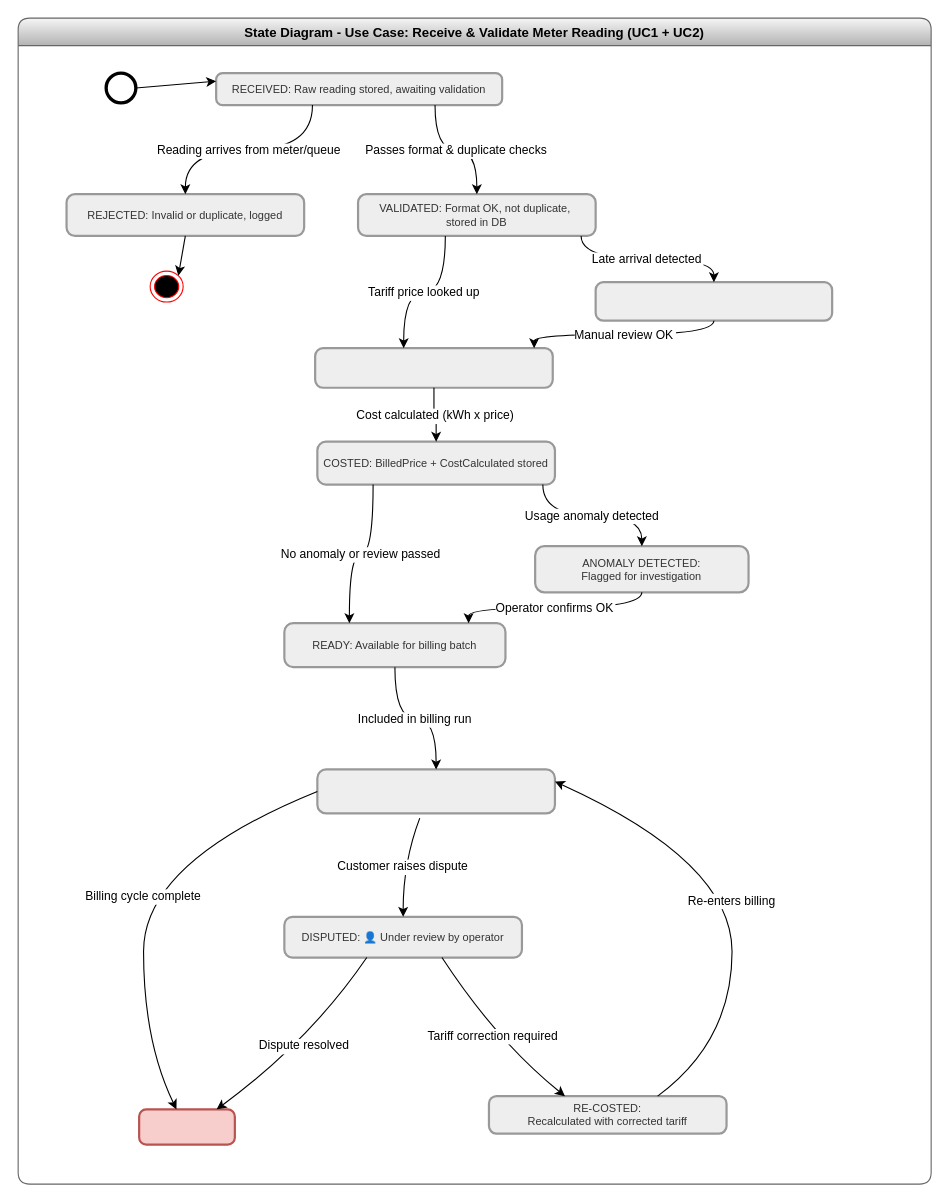
Image size: 949x1202. Some labels were removed from this diagram. Here are the shapes that lost their labels. From the top down, the centre of each, then its label:
At pixel 713 300: "FLAGGED: Late arrival, needs review".
At pixel 433 367: "TARIFF MATCHED: Correct effective price identified".
At pixel 436 791: "BILLED: Included in customer invoice".
At pixel 186 1126: "ARCHIVED".
